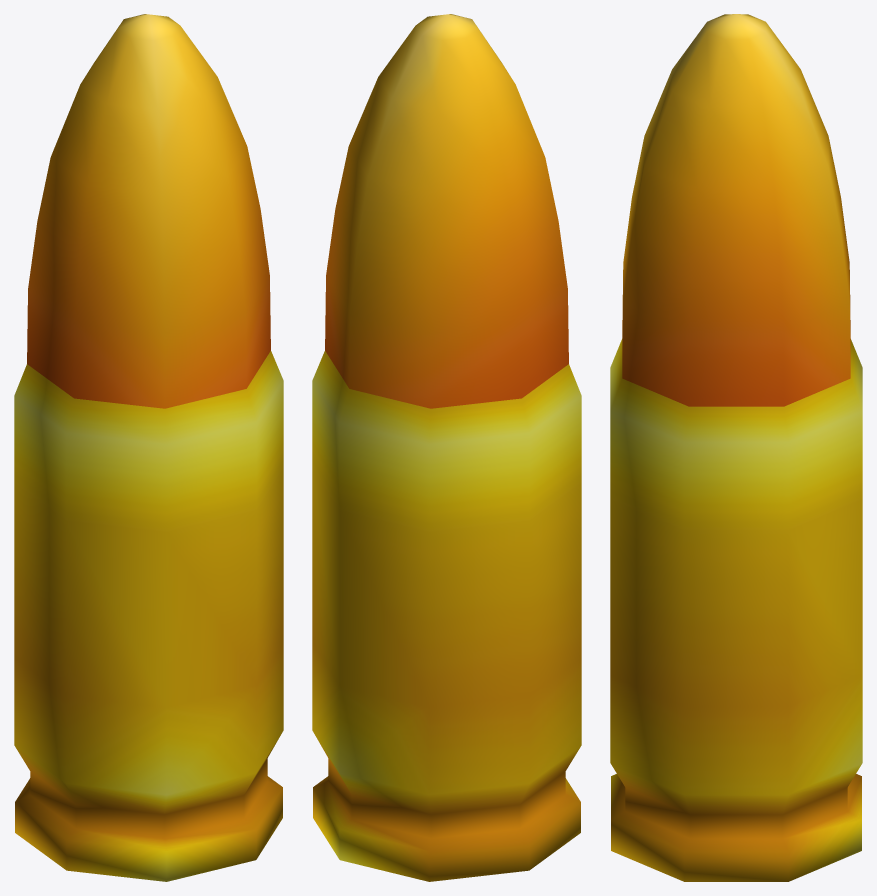
File: Bullet.fbx
3 renders of one model, left to right at view 1: azimuth 30°, elevation 25°; view 2: azimuth 150°, elevation 25°; view 3: azimuth 270°, elevation 25°, orthographic.
Parts seen in each view (by area): view 1: Bullets; view 2: Bullets; view 3: Bullets.
Boxes of the visible parts, x1,y1,x2,y2 form: Bullets: [14, 14, 283, 881]; Bullets: [312, 14, 581, 881]; Bullets: [610, 14, 862, 881].
Size of the model in its own units: 0.0021 by 0.00749 by 0.0021.
1 material, 1 textured.
